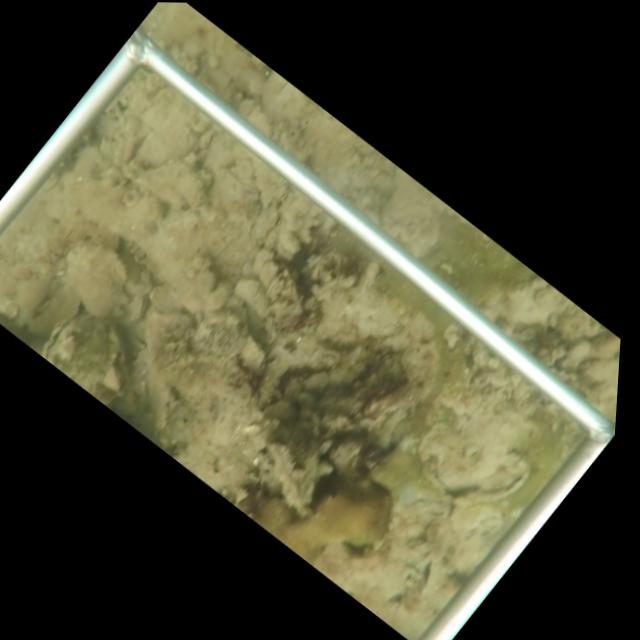Oyster-Closed: (40, 316, 90, 365), (126, 294, 148, 326), (262, 310, 278, 345)
Oyster-Indeterminate: (61, 243, 129, 319)
Oyster-Open: (412, 420, 532, 505)
